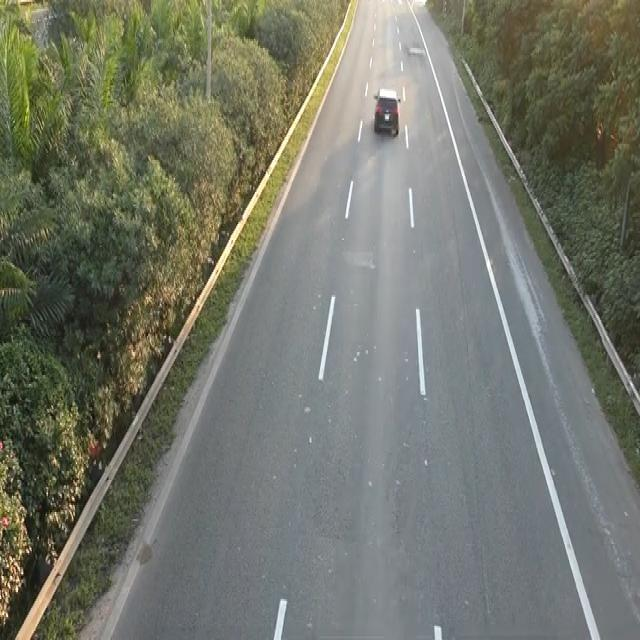car: (371, 84, 401, 138)
